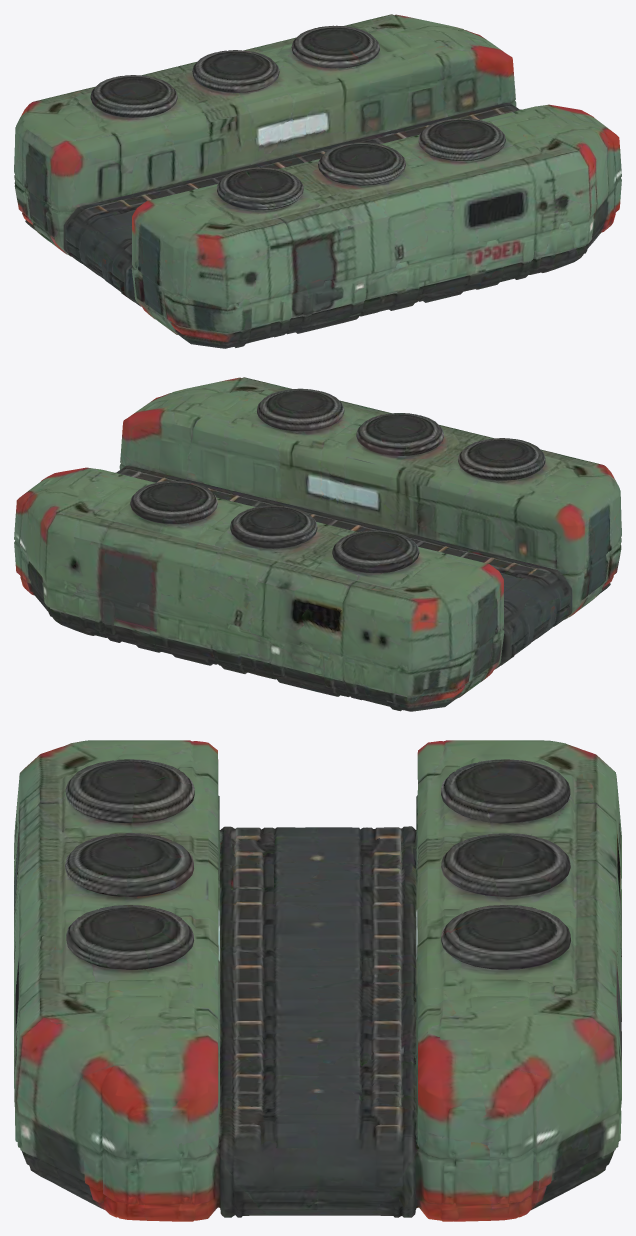
Rendered from arc-nest-lean.glb.
3 renders of one model, top to bottom at view 1: azimuth 30°, elevation 25°; view 2: azimuth 150°, elevation 25°; view 3: azimuth 270°, elevation 25°, orthographic. The views are drawn at different scales.
Visible parts, largest first — view 1: chassis; view 2: chassis; view 3: chassis.
Part boxes in pixels (<box>): chassis: <box>14,14,621,348</box>; chassis: <box>14,377,621,711</box>; chassis: <box>14,740,621,1221</box>.
Bounding box in the file's own units: 0.9899 × 0.2744 × 0.7516.
Materials: 1 (1 with a texture image).
